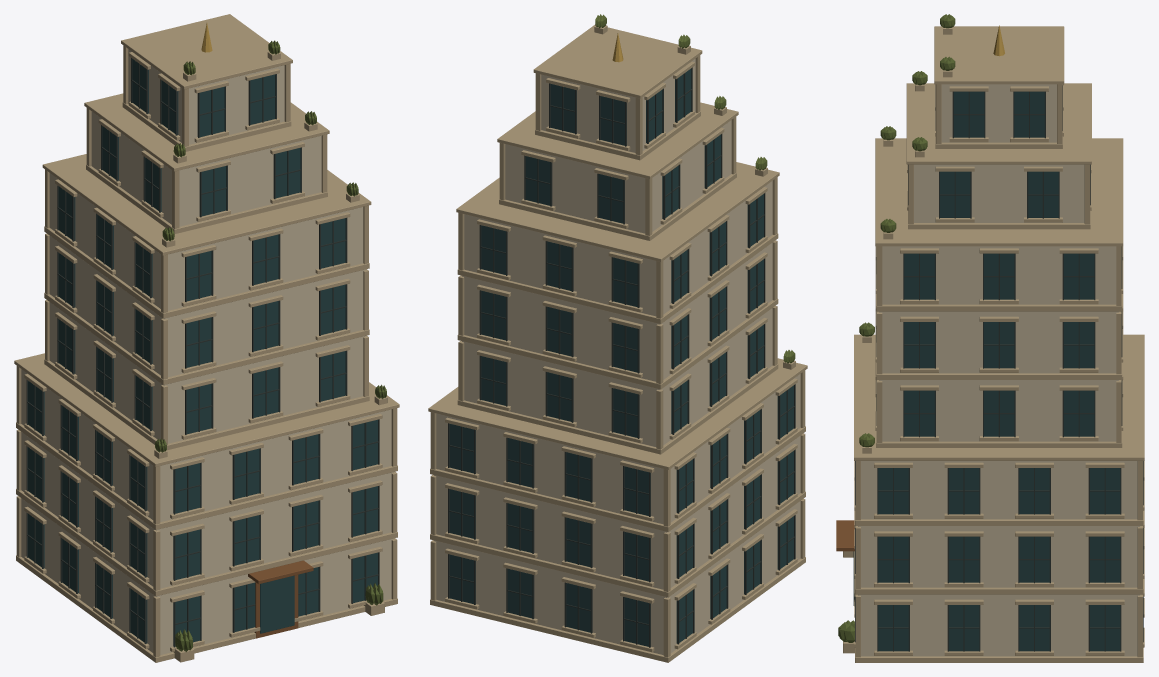
Rendered from tower_a.glb.
The picture shows the model from 3 angles, left to right: view 1: azimuth 30°, elevation 25°; view 2: azimuth 150°, elevation 25°; view 3: azimuth 270°, elevation 25°; orthographic projection. The views are drawn at different scales.
Parts seen in each view (by area): view 1: tower; view 2: tower; view 3: tower.
Boxes of the visible parts, x1,y1,x2,y2 form: tower: [14, 14, 399, 662]; tower: [428, 14, 807, 662]; tower: [836, 14, 1144, 662].
Bounding box in the file's own units: 11.55 × 25.3 × 12.25.
